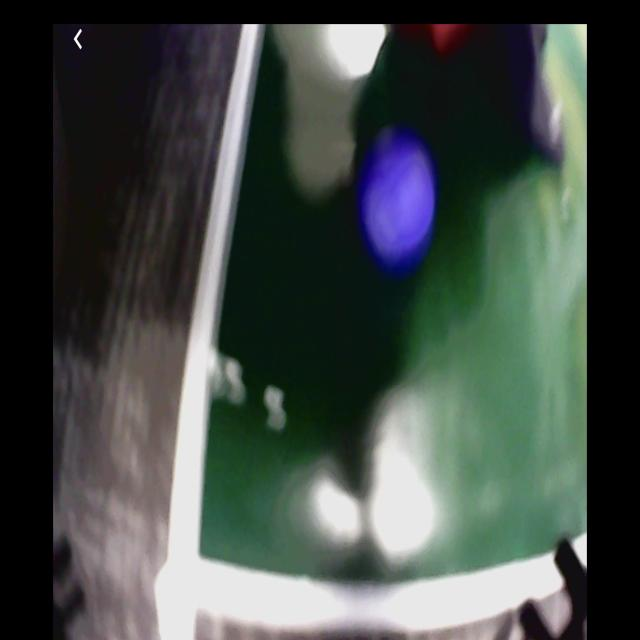ball: (358, 121, 442, 279)
